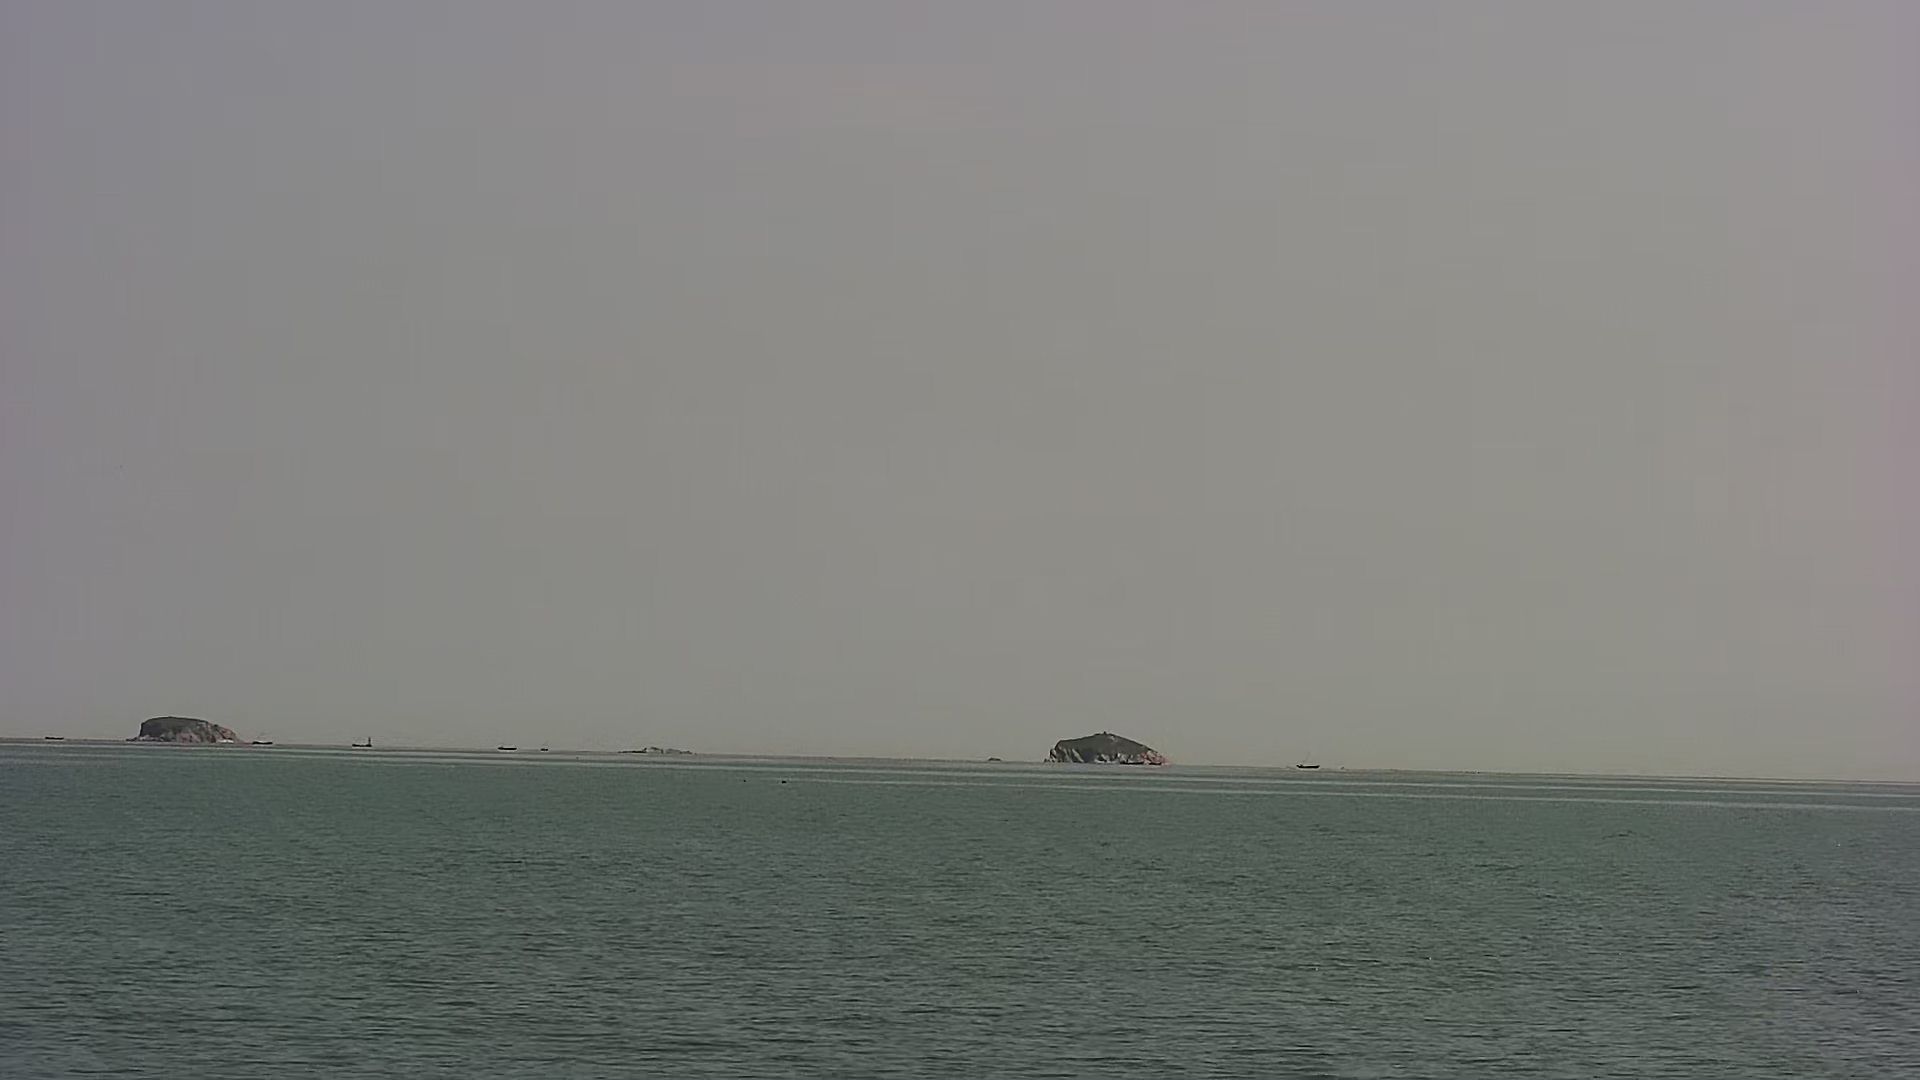rock: (1038, 732, 1178, 767), (123, 717, 255, 750)
